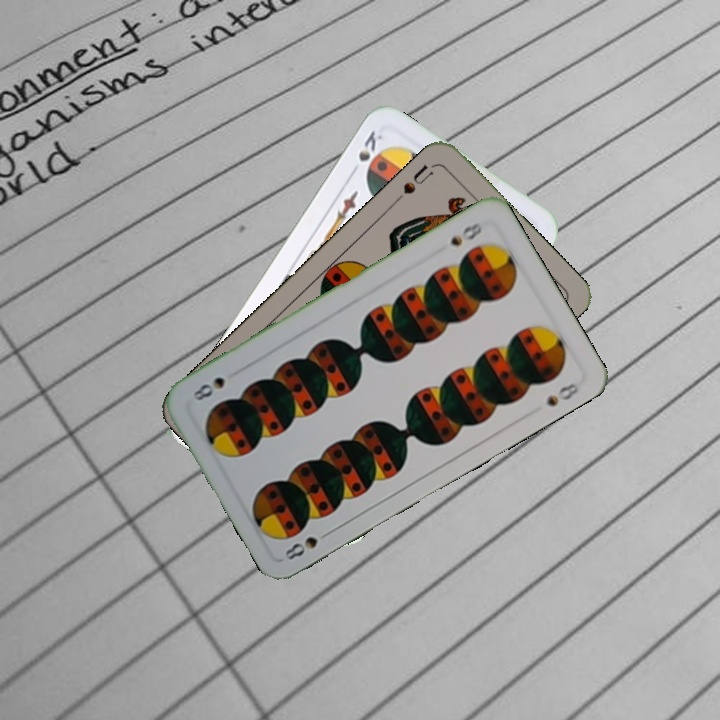S8: (280, 524, 335, 563), (446, 216, 487, 249)
SK: (354, 126, 386, 176)
SU: (390, 160, 438, 205)
